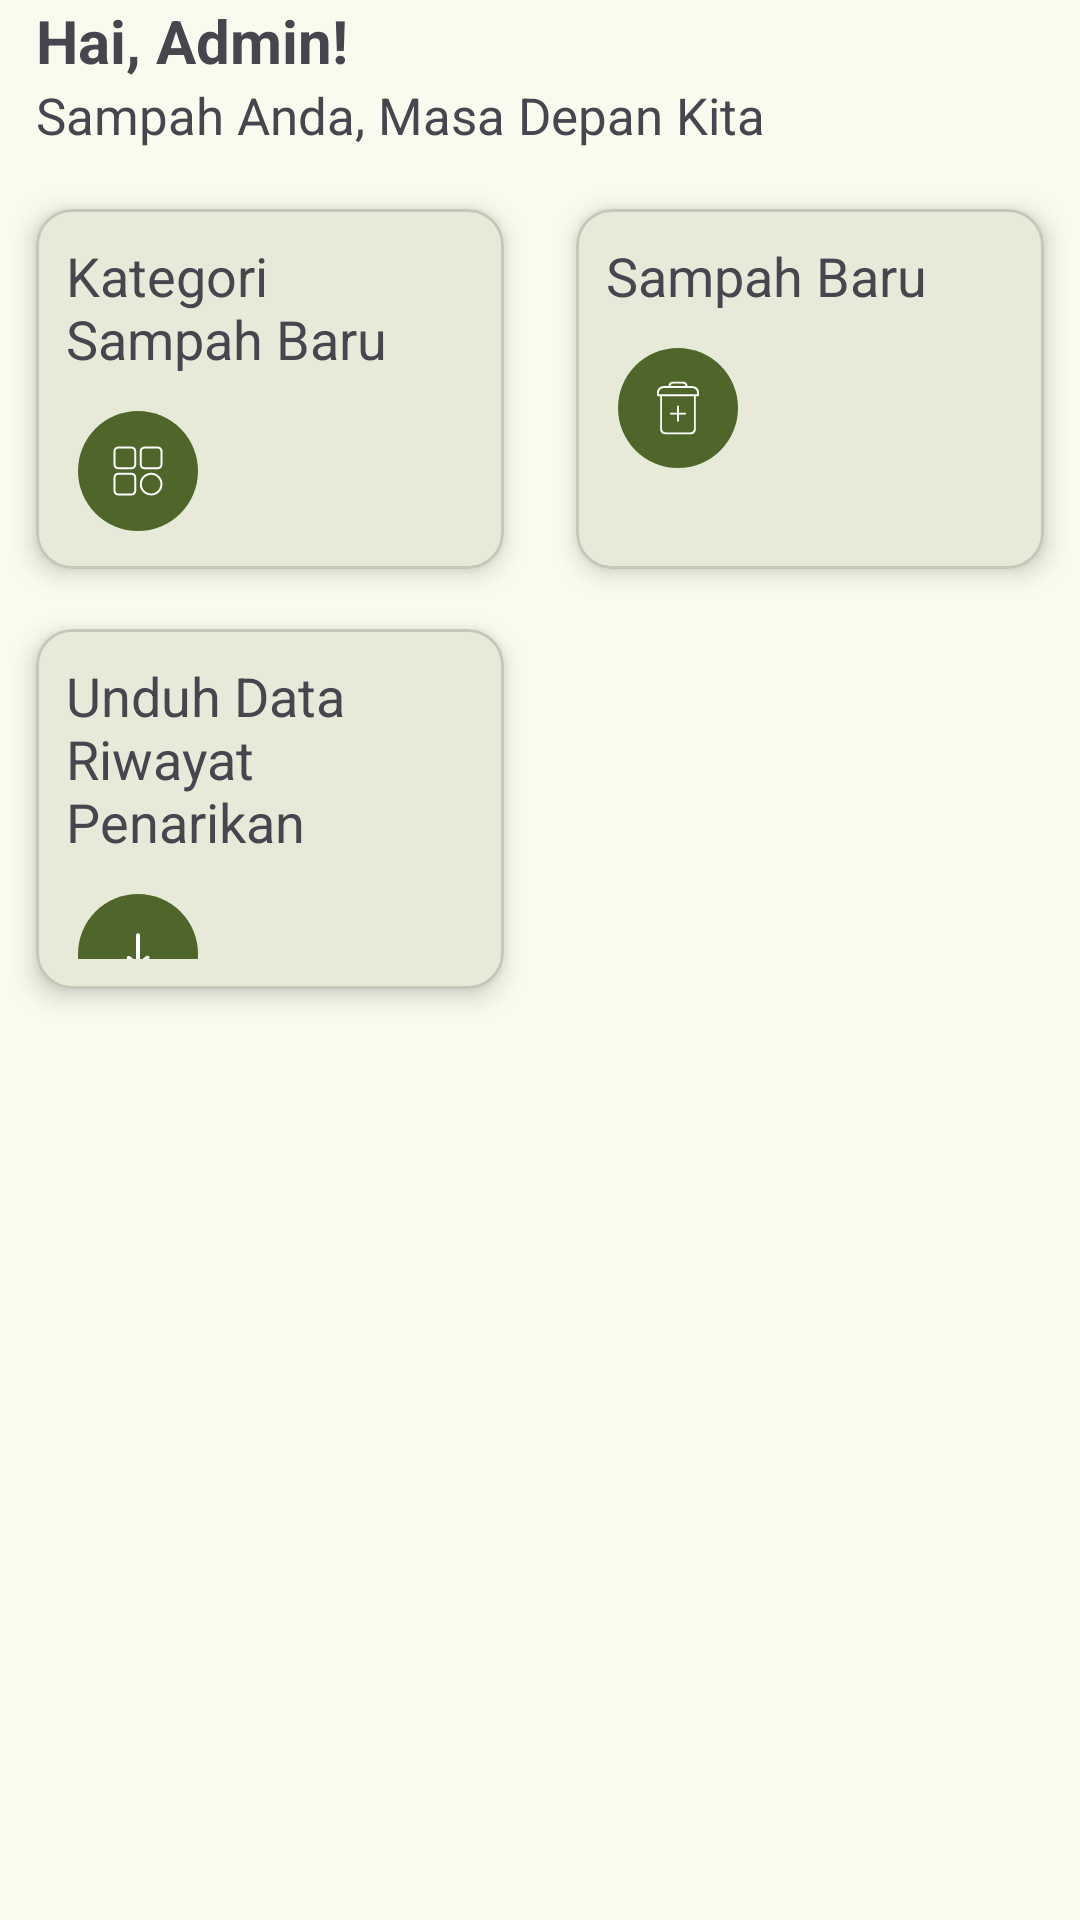

Icon click points for this 1080px×1920px phone screenshot, format [x,y]:
add trash: [678,408]
category: [138,471]
